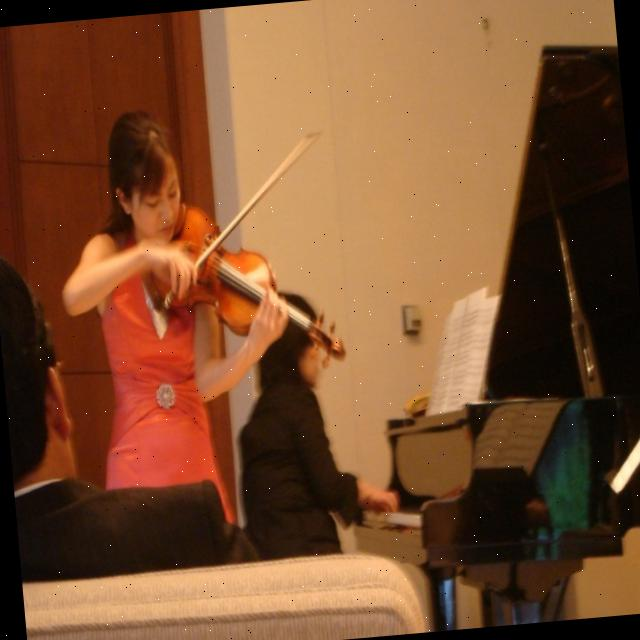violin: (140, 186, 348, 382)
